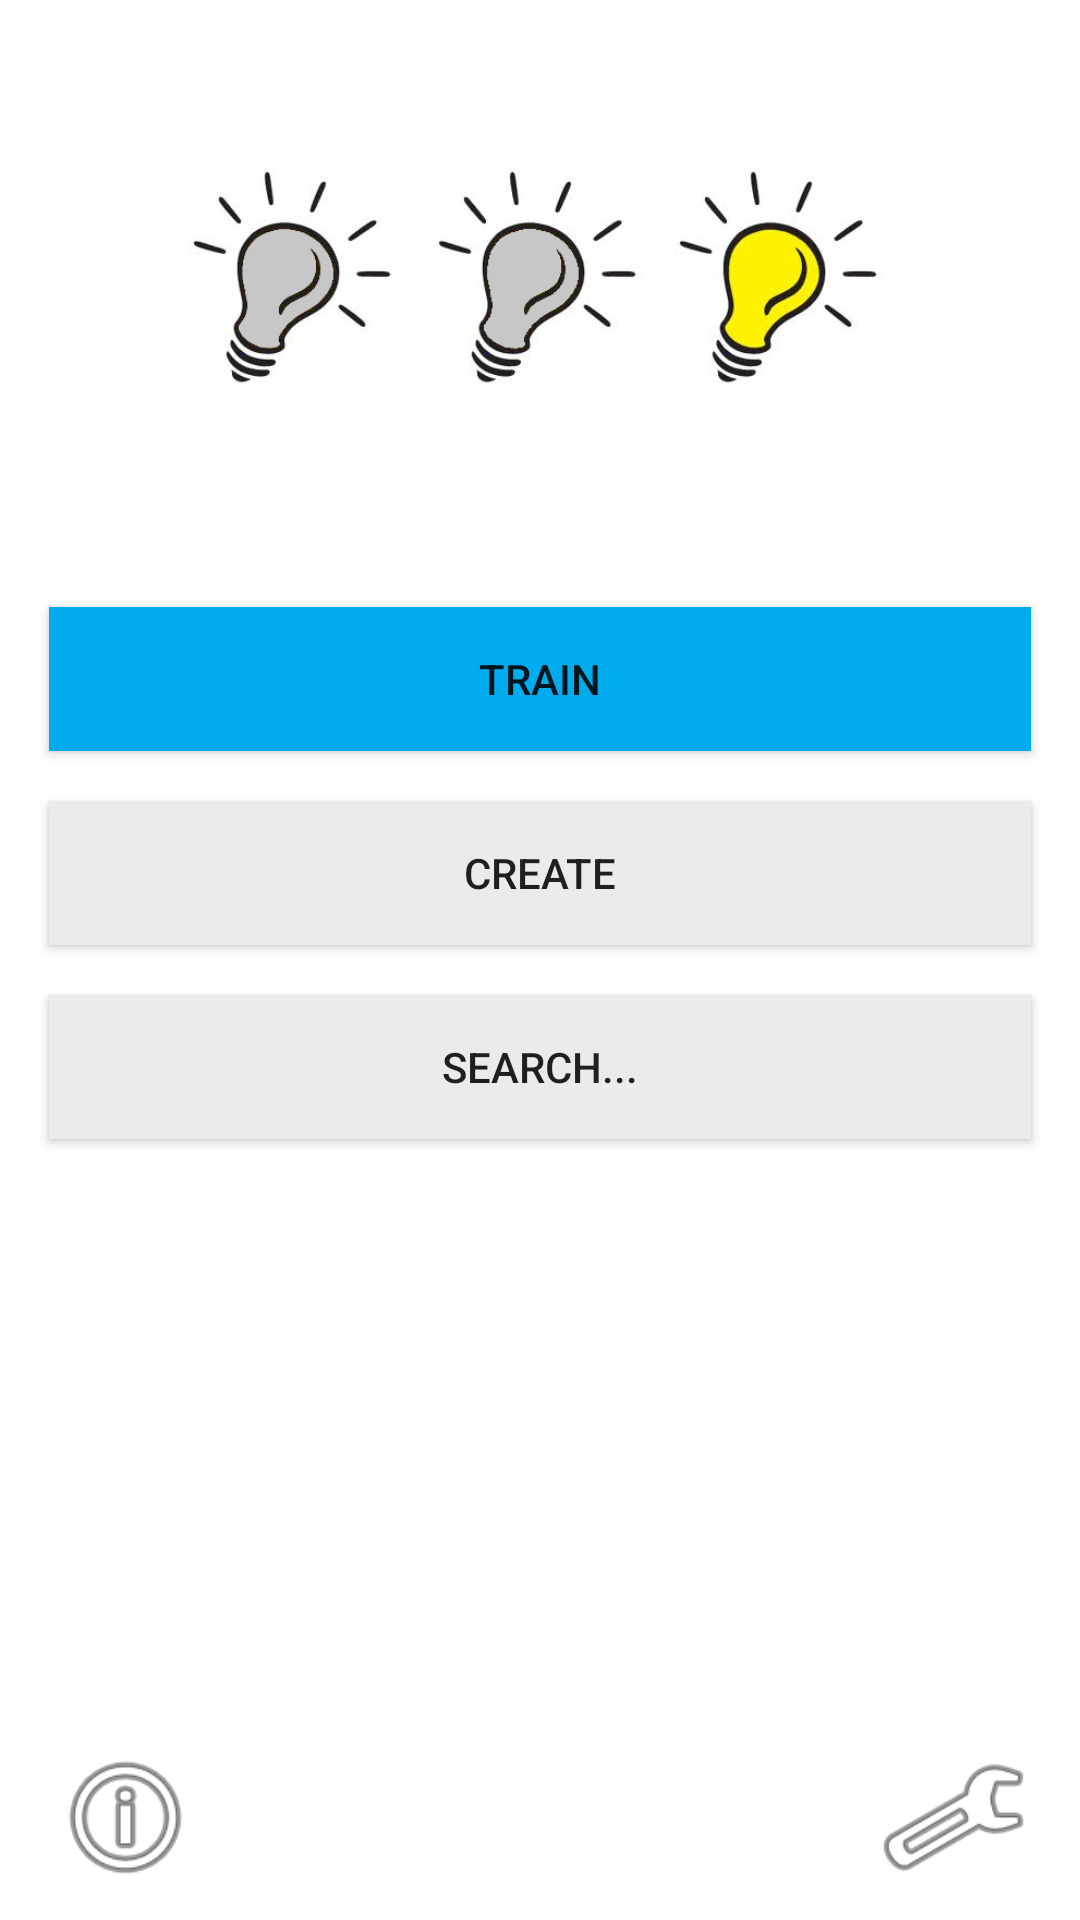

Named icons in this screenshot (1080 x 1920) and their centers, [x,y]:
info details: [125,1818]
manage: [953,1817]
